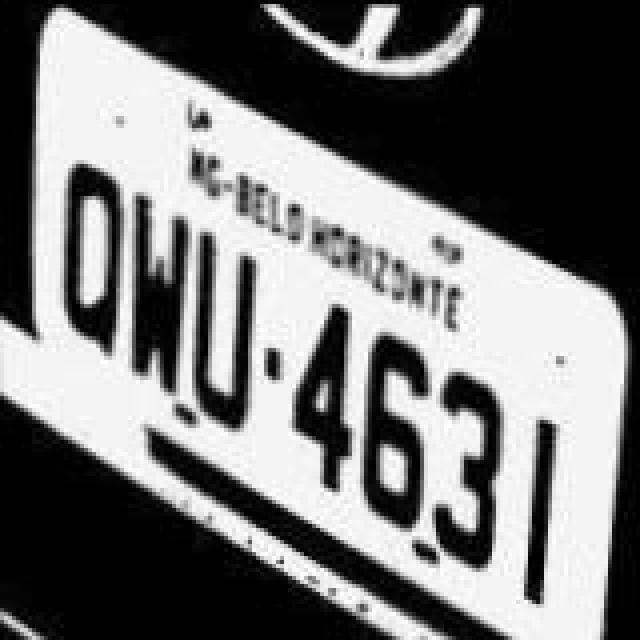1: (506, 404, 570, 608)
3: (430, 368, 514, 584)
4: (290, 294, 366, 498)
6: (354, 324, 438, 528)
Q: (46, 160, 130, 364)
U: (188, 222, 272, 442)
W: (122, 186, 194, 398)
